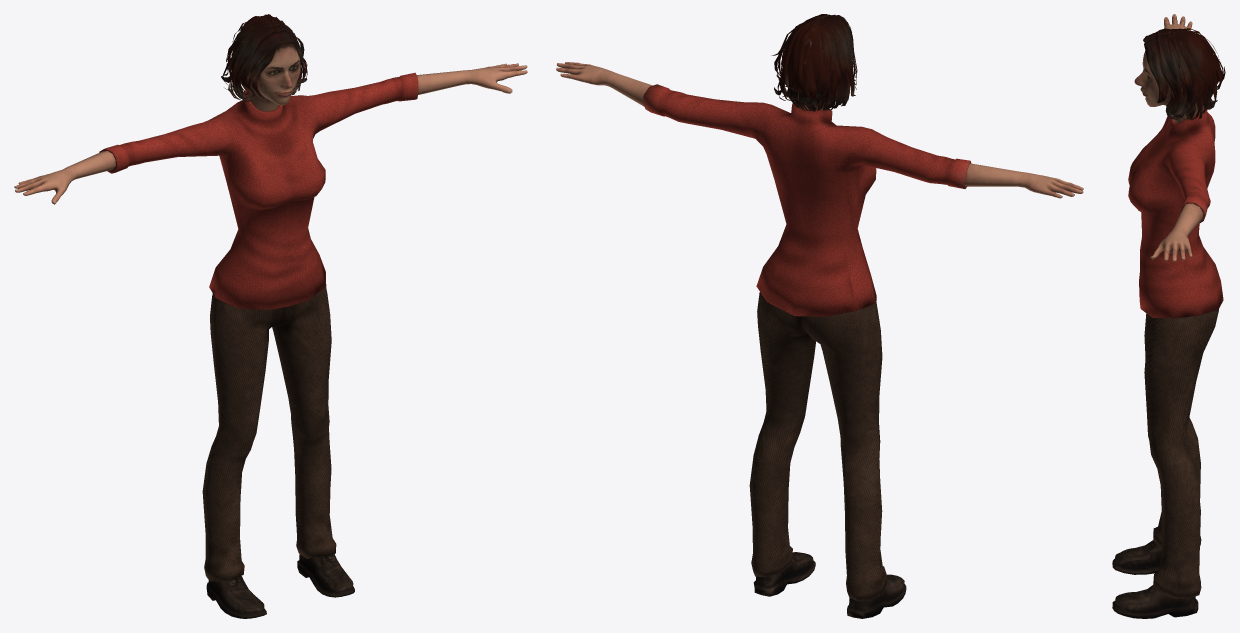
The model's file is customer02.fbx.fbx.
The picture shows the model from 3 angles, left to right: view 1: azimuth 30°, elevation 25°; view 2: azimuth 150°, elevation 25°; view 3: azimuth 270°, elevation 25°; orthographic projection. The views are drawn at different scales.
Parts seen in each view (by area): view 1: char3; view 2: char3; view 3: char3.
Part boxes in pixels (x1=…): char3: x1=14, y1=14, x2=527, y2=618; char3: x1=556, y1=14, x2=1083, y2=618; char3: x1=1112, y1=14, x2=1225, y2=618.
Bounding box in the file's own units: 1.53 × 1.62 × 0.2966.
Materials: 1 (1 with a texture image).
